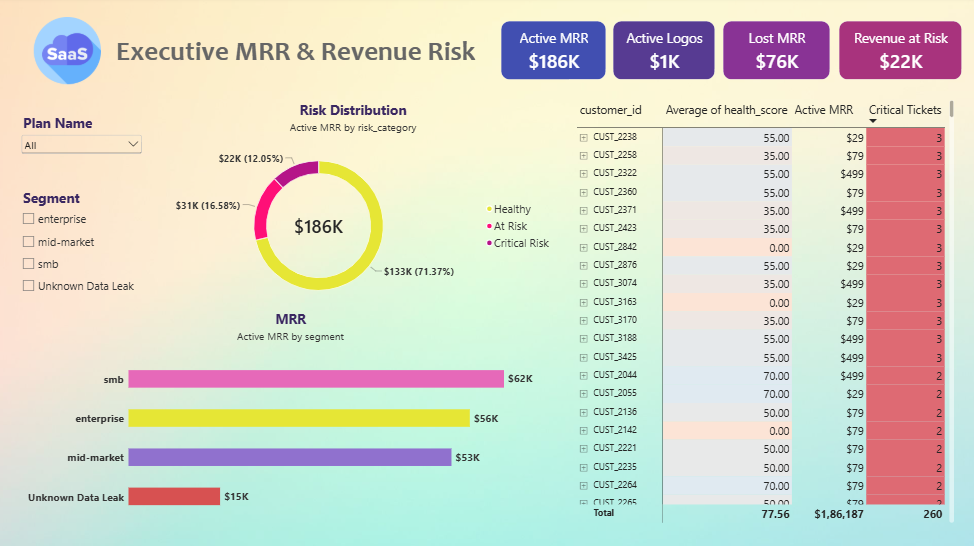

What the dashboard file says about the page in this screenshot:
{"tool":"powerbi","page":{"name":"Page 1","canvas":[1920,1080],"ordinal":0},"visuals":[{"type":"cardVisual","fields":{"Data":["_Key Measures.Active MRR"]},"box":[985.7,47.1,206.2,115.9],"z":0},{"type":"cardVisual","fields":{"Data":["_Key Measures.Active Logos"]},"box":[1205.7,47.1,200.3,115.9],"z":1000},{"type":"cardVisual","fields":{"Data":["_Key Measures.Lost MRR"]},"box":[1421.7,47.1,210.1,115.9],"z":2000},{"type":"cardVisual","fields":{"Data":["_Key Measures.Revenue at Risk"]},"box":[1649.5,47.1,241.5,115.9],"z":3000},{"type":"clusteredBarChart","title":"MRR","fields":{"Category":["dim_customers.segment"],"Y":["_Key Measures.Active MRR"]},"box":[39.3,598.9,1066.3,449.7],"z":4000},{"type":"donutChart","title":"Risk Distribution","fields":{"Category":["dim_customers.risk_category"],"Y":["_Key Measures.Active MRR"]},"box":[284.7,188.5,820.8,441.8],"z":5000},{"type":"pivotTable","fields":{"Rows":["dim_customers.customer_id","dim_customers.industry"],"Values":["Avg(dim_customers.health_score)","_Key Measures.Active MRR","_Key Measures.Critical Tickets"]},"box":[1119.3,188.5,771.7,860.1],"z":6000},{"type":"slicer","fields":{"Values":["dim_plans.plan_name"]},"box":[39.3,227.8,245.7,115.6],"z":7000},{"type":"slicer","fields":{"Values":["dim_customers.segment"]},"box":[39.3,375.1,245.7,223],"z":8000},{"type":"shape","box":[229.7,47.1,724.6,115.9],"z":9000},{"type":"image","box":[39.3,39.3,190.5,131.6],"z":10000}]}

Visuals, with their boxes in screenshot pixels (x1, y1, x2, y2), scaled from the page's 1920x1080 canvas onto the 974x546 screenshot:
cardVisual - _Key Measures.Active MRR: <bbox>500, 24, 605, 82</bbox>
cardVisual - _Key Measures.Active Logos: <bbox>612, 24, 713, 82</bbox>
cardVisual - _Key Measures.Lost MRR: <bbox>721, 24, 828, 82</bbox>
cardVisual - _Key Measures.Revenue at Risk: <bbox>837, 24, 959, 82</bbox>
"MRR" clusteredBarChart: <bbox>20, 303, 561, 530</bbox>
"Risk Distribution" donutChart: <bbox>144, 95, 561, 319</bbox>
pivotTable - dim_customers.customer_id x dim_customers.industry: <bbox>568, 95, 959, 530</bbox>
slicer - dim_plans.plan_name: <bbox>20, 115, 145, 174</bbox>
slicer - dim_customers.segment: <bbox>20, 190, 145, 302</bbox>
shape: <bbox>117, 24, 484, 82</bbox>
image: <bbox>20, 20, 117, 86</bbox>
